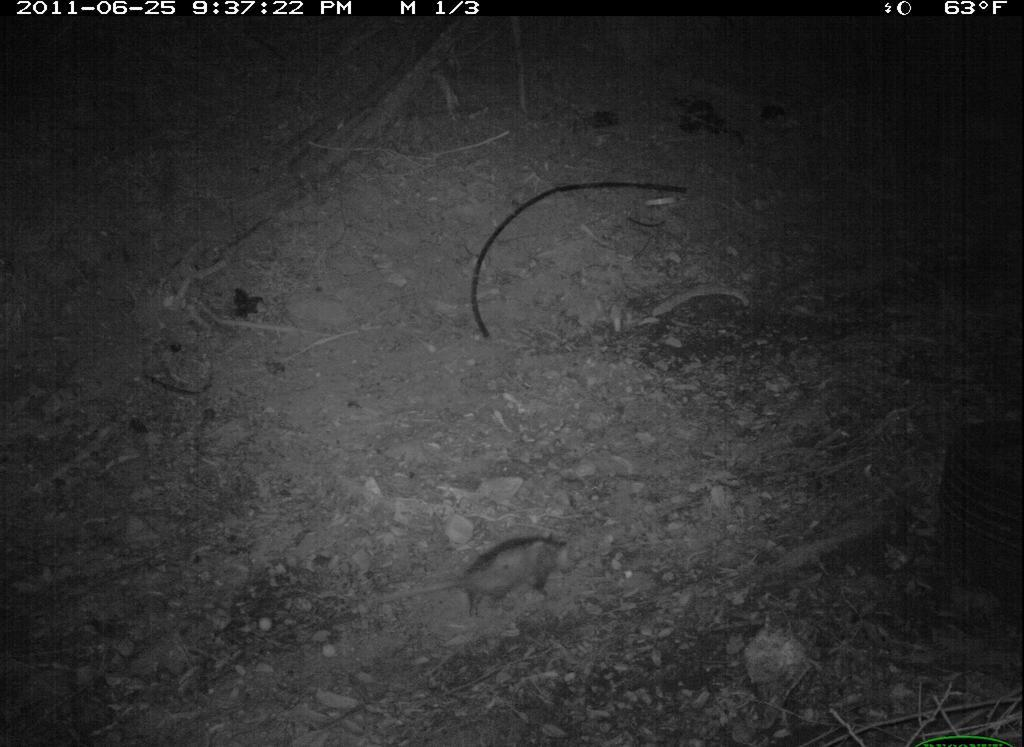opossum: (406, 530, 577, 623)
